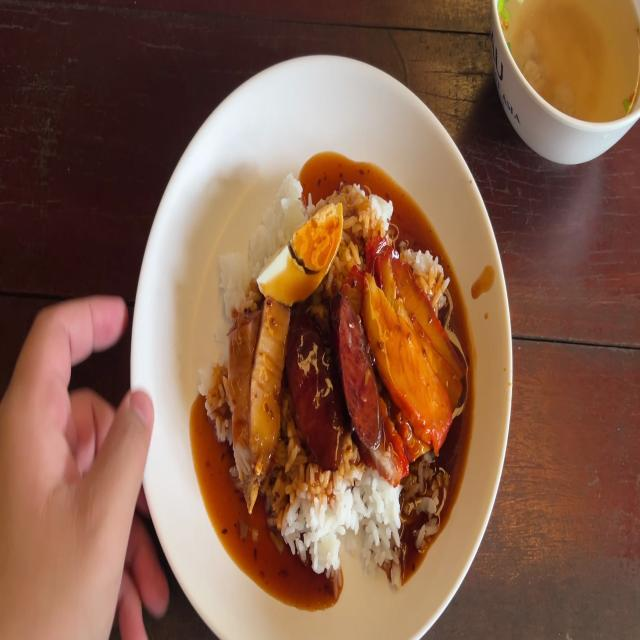red_pork_and_crispy_pork: (254, 200, 340, 298)
stir_fried_basil: (288, 303, 337, 459), (341, 297, 376, 440)
